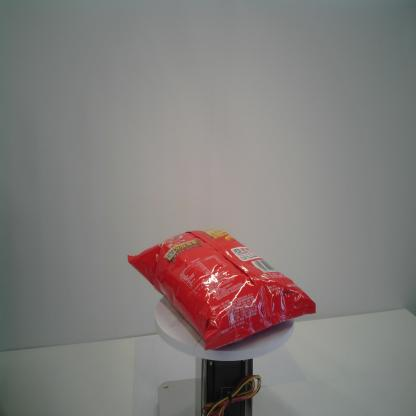Puffed Food: (126, 226, 317, 352)
